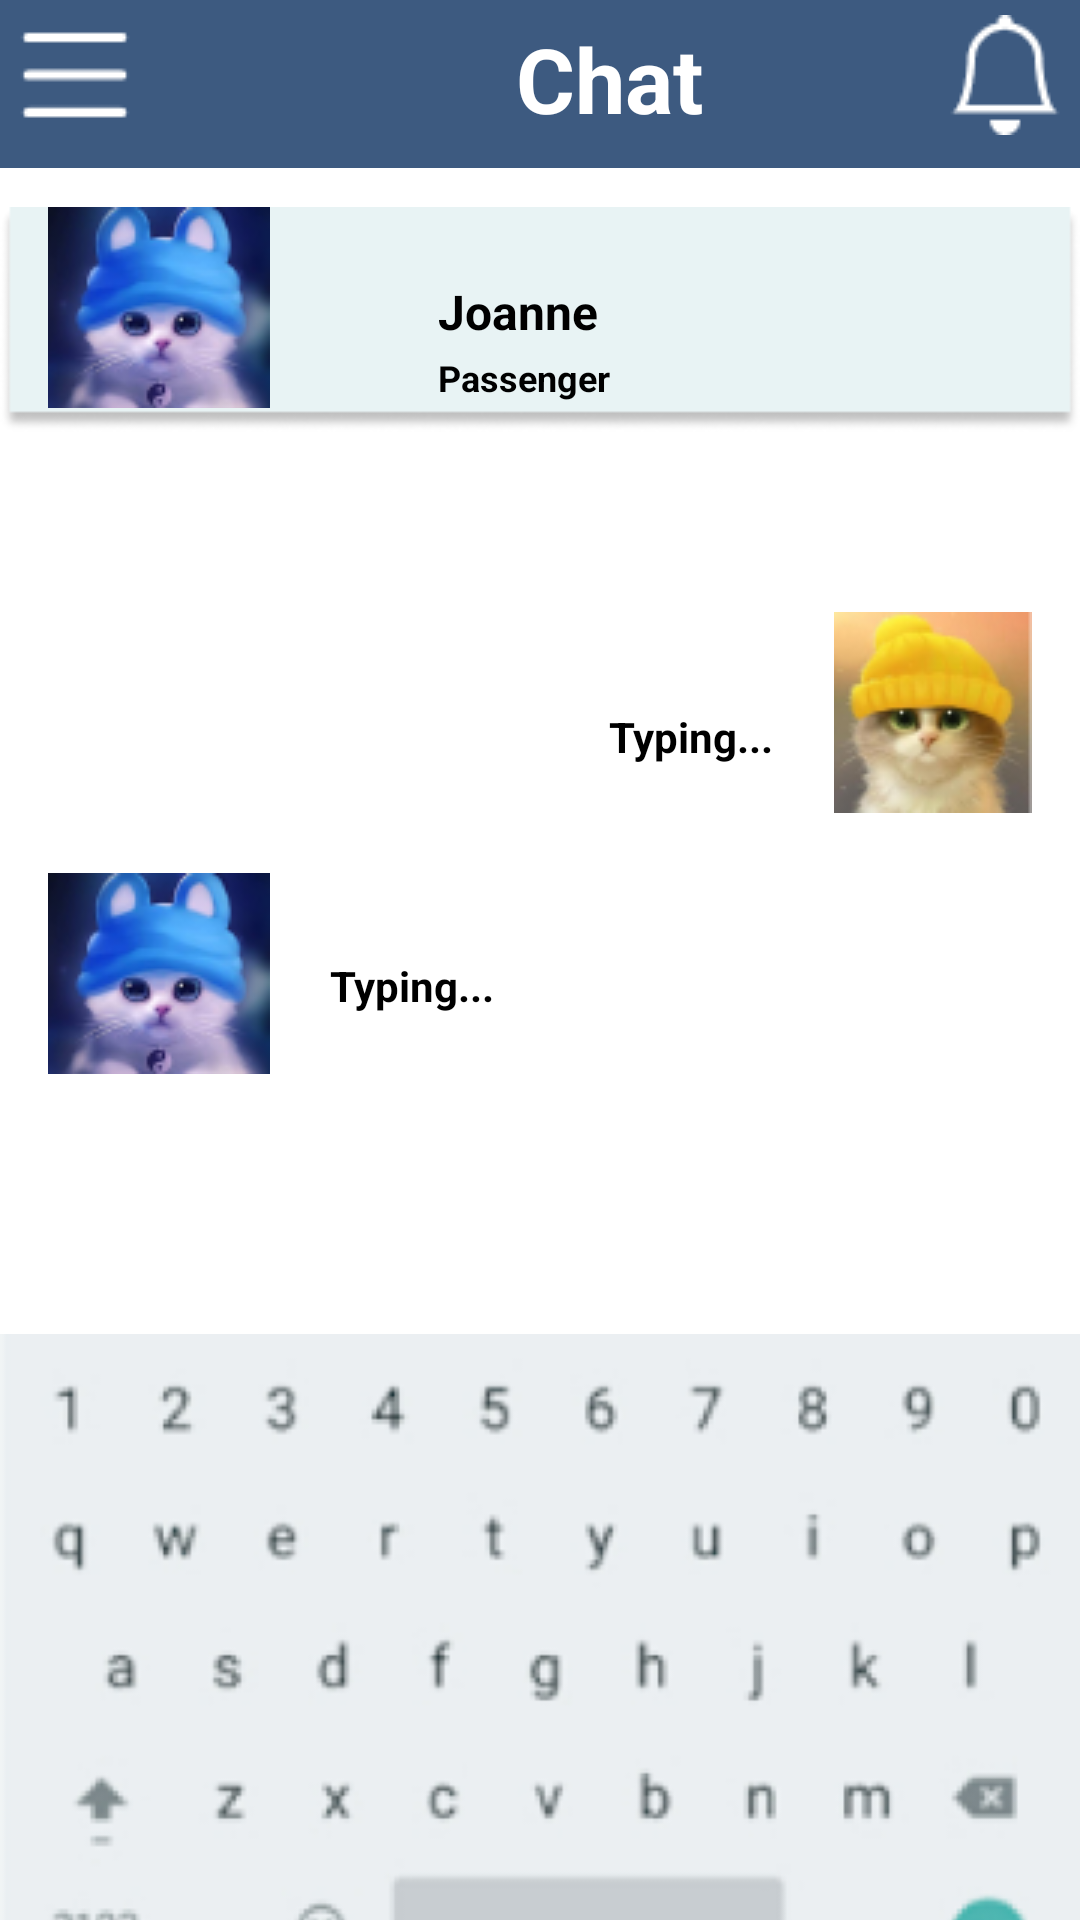

Icons on this 1080x1920 Android screen, each with its box as box=[x1, y1, x2, y2]:
bellicon: box=[953, 15, 1057, 135]
catprofileyellow: box=[834, 612, 1032, 813]
listicon: box=[23, 32, 127, 118]
profilecat: box=[48, 207, 270, 408], box=[48, 873, 270, 1074]
